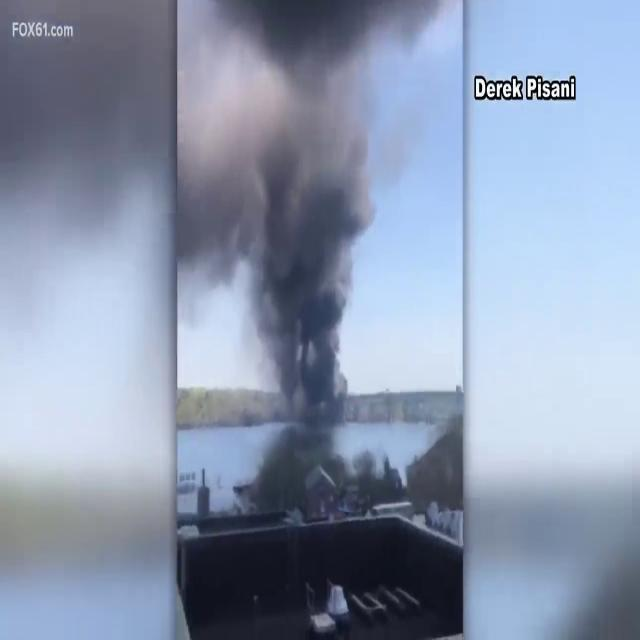Smoke: (177, 1, 375, 414)
